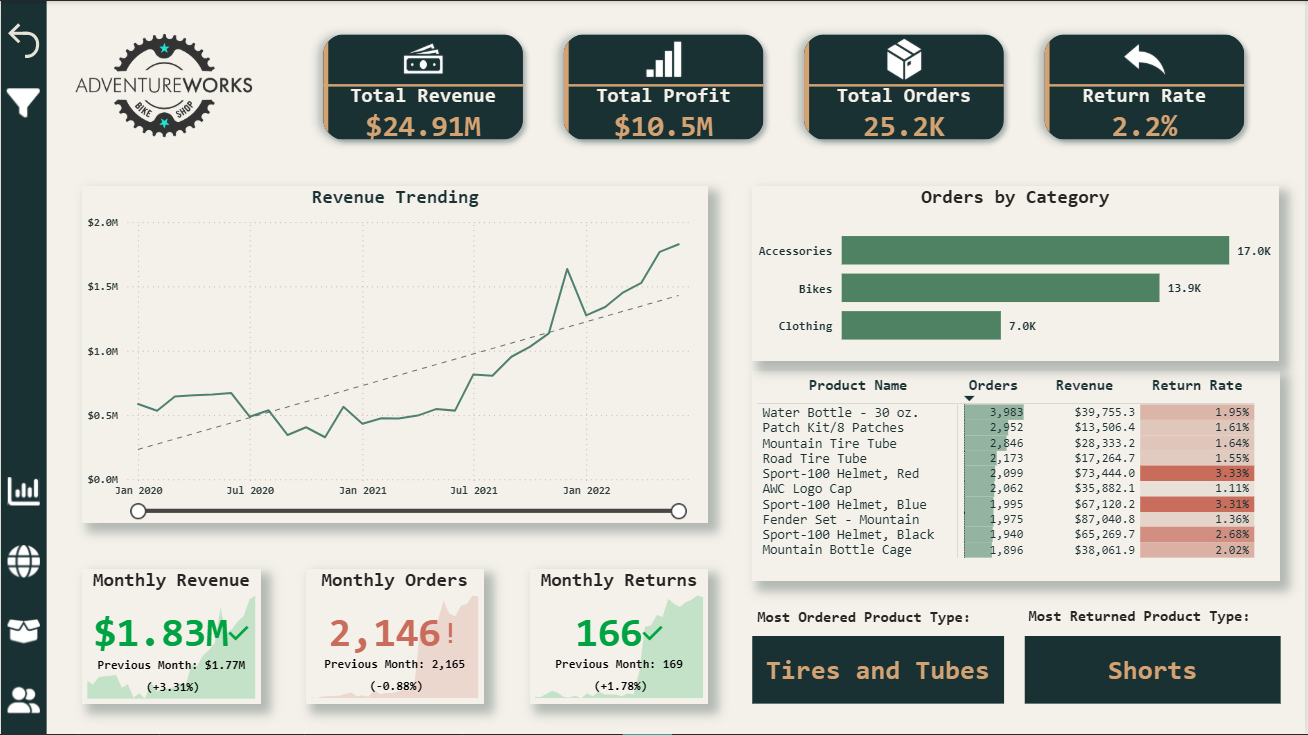

The dashboard page shown, as its layout file describes it:
{"tool":"powerbi","page":{"name":"Exec Dashboard","canvas":[1280,720],"ordinal":0},"visuals":[{"type":"image","title":"AW Logo","box":[53.8,12.5,212.5,141.2],"z":0},{"type":"actionButton","box":[0,529.9,44.8,39.8],"z":0,"group":"g1"},{"type":"shape","title":"Left Nav Background","box":[0,0,45,720],"z":1000},{"type":"actionButton","box":[0,461.5,44.8,39.8],"z":1000,"group":"g1"},{"type":"actionButton","box":[0,598.3,44.8,39.8],"z":2000,"group":"g1"},{"type":"lineChart","title":"Revenue Trending","fields":{"Category":["dim Calendar.Year","dim Calendar.Start of Quarter","dim Calendar.Start of Month"],"Y":["Measure Table.Total Revenue"]},"box":[79.8,181.6,614.7,330.1],"z":3000},{"type":"actionButton","box":[0,666.8,44.8,39.8],"z":3000,"group":"g1"},{"type":"kpi","title":"Monthly Revenue ","fields":{"Goal":["Measure Table.Previous Month Revenue"],"Indicator":["Measure Table.Total Revenue"],"TrendLine":["dim Calendar.Start of Month"]},"box":[79.3,557.1,175,133],"z":5000},{"type":"kpi","title":"Monthly Orders","fields":{"Goal":["Measure Table.Previous Month Orders"],"Indicator":["Measure Table.Total Orders"],"TrendLine":["dim Calendar.Start of Month"]},"box":[299.5,557.1,174.2,132.5],"z":6000},{"type":"kpi","title":"Monthly Returns","fields":{"Goal":["Measure Table.Previous Month Returns"],"Indicator":["Measure Table.Total Returns"],"TrendLine":["dim Calendar.Start of Month"]},"box":[519,557.1,175.5,132.5],"z":7000},{"type":"barChart","title":"Orders by Category","fields":{"Category":["dim Product Categories.CategoryName"],"Y":["Measure Table.Total Orders"]},"box":[737.3,182.1,516.7,172.2],"z":8000},{"type":"pivotTable","fields":{"Rows":["dim Product.ProductName"],"Values":["Measure Table.Total Orders","Measure Table.Total Revenue","Measure Table.Return Rate"]},"box":[737.4,363.2,517.8,206.1],"z":9000},{"type":"card","fields":{"Values":["Min(dim Product Subcategories.SubcategoryName)"]},"box":[736.9,623,247.1,66.6],"z":10000},{"type":"textbox","box":[737.5,590,247.5,33.8],"z":11000},{"type":"card","fields":{"Values":["Min(dim Product Subcategories.SubcategoryName)"]},"box":[1004.8,623,251.6,66.6],"z":12000},{"type":"textbox","box":[1003.8,588.8,250,35],"z":13000},{"type":"actionButton","box":[0,12.5,45,52.5],"z":14000},{"type":"group","id":"g1","title":"Navigation Buttons","box":[0,461.5,44.8,245.1],"z":15000},{"type":"actionButton","box":[0,79.8,44.2,40.5],"z":16000},{"type":"cardVisual","fields":{"Data":["Measure Table.Total Revenue","Measure Table.Total Profit","Measure Table.Total Orders","Measure Table.Return Rate"]},"box":[283.4,0,973,169.3],"z":17001}]}

Visuals, with their boxes on the page's 1280x720 design canvas (x1, y1, x2, y2). These are canvas units, not pixel positions in the 1308x735 screenshot, which may show the page scaled, cropped or inside an application window:
"AW Logo" image: select_region(54, 12, 266, 154)
actionButton: select_region(0, 530, 45, 570)
"Left Nav Background" shape: select_region(0, 0, 45, 720)
actionButton: select_region(0, 462, 45, 501)
actionButton: select_region(0, 598, 45, 638)
"Revenue Trending" lineChart: select_region(80, 182, 694, 512)
actionButton: select_region(0, 667, 45, 707)
"Monthly Revenue " kpi: select_region(79, 557, 254, 690)
"Monthly Orders" kpi: select_region(300, 557, 474, 690)
"Monthly Returns" kpi: select_region(519, 557, 694, 690)
"Orders by Category" barChart: select_region(737, 182, 1254, 354)
pivotTable - dim Product.ProductName x Measure Table.Total Orders: select_region(737, 363, 1255, 569)
card - Min(dim Product Subcategories.SubcategoryName): select_region(737, 623, 984, 690)
textbox: select_region(738, 590, 985, 624)
card - Min(dim Product Subcategories.SubcategoryName): select_region(1005, 623, 1256, 690)
textbox: select_region(1004, 589, 1254, 624)
actionButton: select_region(0, 12, 45, 65)
"Navigation Buttons" group: select_region(0, 462, 45, 707)
actionButton: select_region(0, 80, 44, 120)
cardVisual - Measure Table.Total Revenue x Measure Table.Total Profit: select_region(283, 0, 1256, 169)
